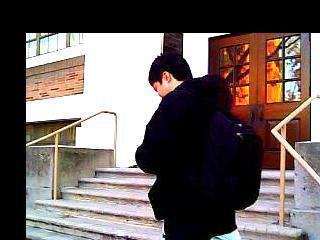Escaleras: (33, 175, 320, 240)
